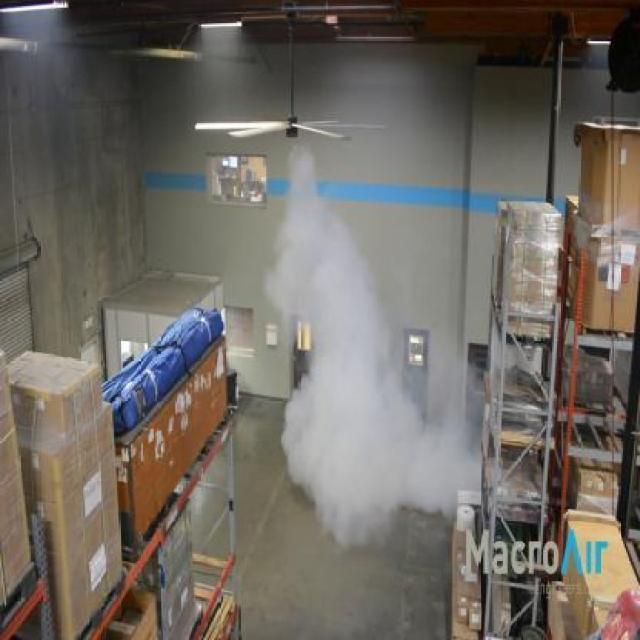fire: (263, 146, 448, 552)
